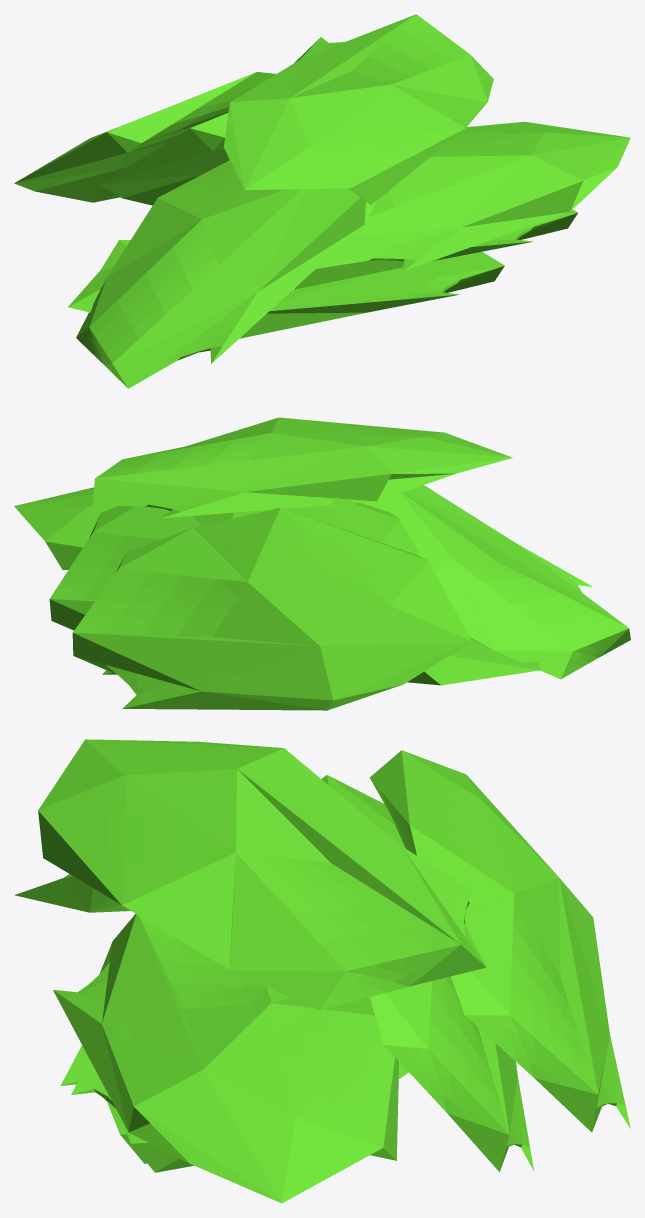
The model's file is lettuce_sliced.fbx.
The picture shows the model from 3 angles, top to bottom: view 1: azimuth 30°, elevation 25°; view 2: azimuth 150°, elevation 25°; view 3: azimuth 270°, elevation 25°; orthographic projection. The views are drawn at different scales.
Visible parts, largest first — view 1: Torus.005, Torus.006, Torus.007, Torus.000, Torus.003, Torus.004, Torus.002; view 2: Torus.003, Torus.006, Torus.005, Torus.004, Torus.007, Torus.000; view 3: Torus.006, Torus.007, Torus.003, Torus.004, Torus.005, Torus.002, Torus.000.
Boxes of the visible parts, bbox=[...] form: Torus.005: bbox=[76, 160, 376, 388]; Torus.006: bbox=[223, 14, 493, 205]; Torus.007: bbox=[316, 121, 630, 271]; Torus.000: bbox=[68, 240, 504, 338]; Torus.003: bbox=[14, 72, 275, 202]; Torus.004: bbox=[100, 112, 229, 205]; Torus.002: bbox=[294, 209, 577, 289]; Torus.003: bbox=[72, 507, 471, 710]; Torus.006: bbox=[93, 417, 512, 518]; Torus.005: bbox=[360, 485, 630, 679]; Torus.004: bbox=[49, 497, 420, 674]; Torus.007: bbox=[14, 487, 117, 569]; Torus.000: bbox=[407, 639, 541, 685]; Torus.006: bbox=[38, 739, 497, 1010]; Torus.007: bbox=[53, 914, 398, 1203]; Torus.003: bbox=[369, 750, 630, 1132]; Torus.004: bbox=[321, 775, 534, 1171]; Torus.005: bbox=[14, 874, 130, 912]; Torus.002: bbox=[71, 1059, 408, 1172]; Torus.000: bbox=[60, 1045, 146, 1163].
Bounding box in the file's own units: 283 × 97.28 × 186.
